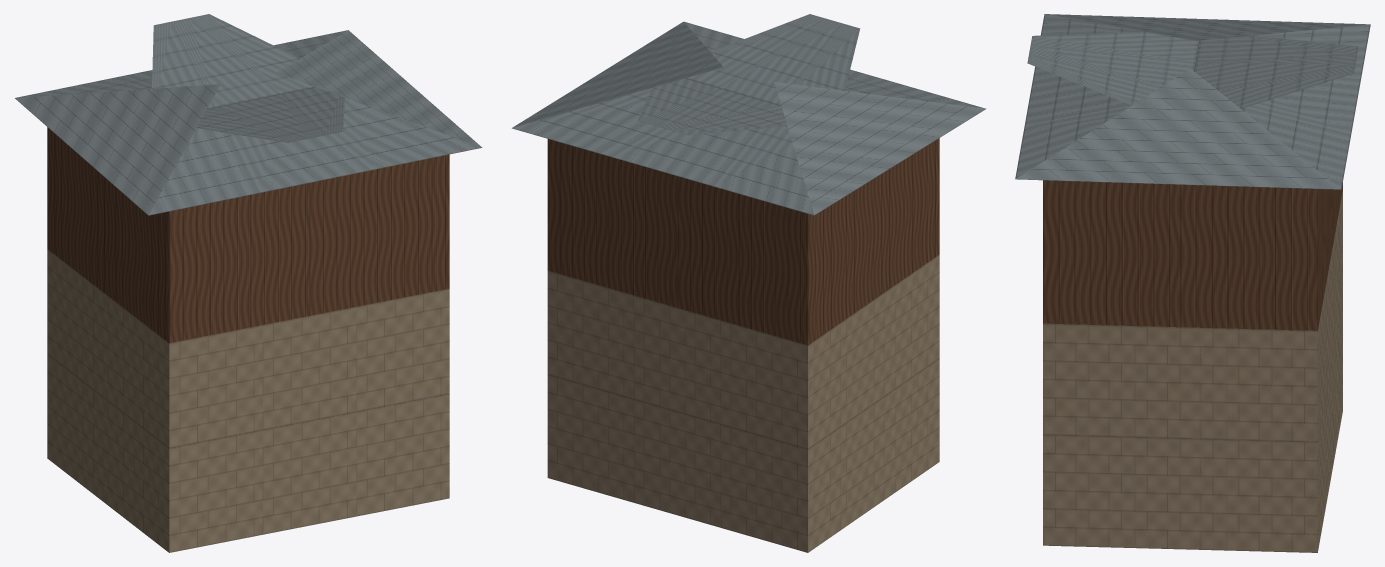
The model's file is bld_c23_8_654.gltf.
3 renders of one model, left to right at view 1: azimuth 30°, elevation 25°; view 2: azimuth 150°, elevation 25°; view 3: azimuth 270°, elevation 25°, orthographic. The views are drawn at different scales.
Parts seen in each view (by area): view 1: bld_c23_8_654; view 2: bld_c23_8_654; view 3: bld_c23_8_654.
Part boxes in pixels (<box>): bld_c23_8_654: <box>15,14,482,552</box>; bld_c23_8_654: <box>512,14,986,552</box>; bld_c23_8_654: <box>1015,14,1370,552</box>.
Bounding box in the file's own units: 8.01 × 9 × 6.85.
Materials: 3 (3 with a texture image).
